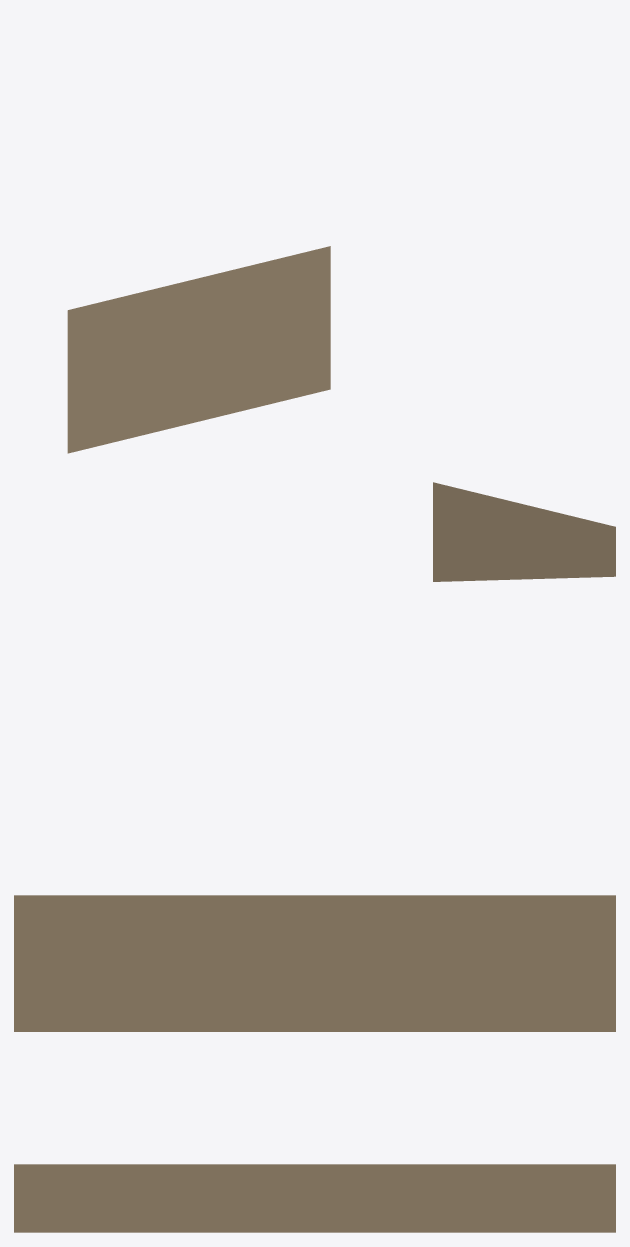
3 renders of one model, top to bottom at view 1: azimuth 30°, elevation 25°; view 2: azimuth 150°, elevation 25°; view 3: azimuth 270°, elevation 25°, orthographic. The views are drawn at different scales.
Bounding box in the file's own units: 1 × 0.375 × 1.
Materials: 1 (1 with a texture image).
